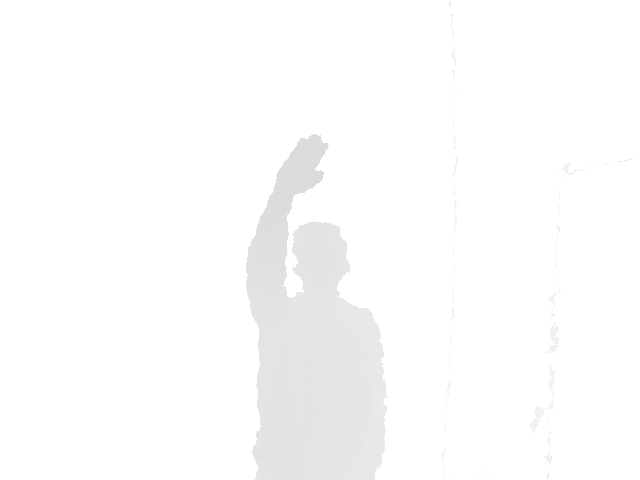hand: (274, 133, 329, 195)
head: (292, 221, 351, 295)
person: (245, 133, 389, 480)
